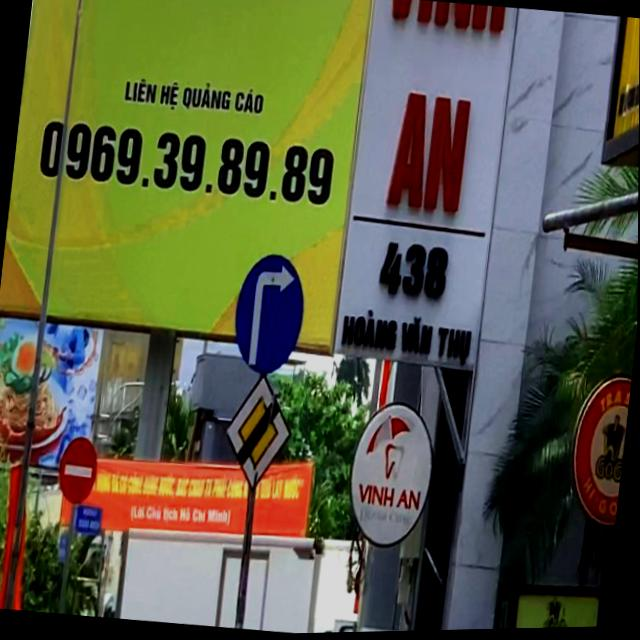Cac xe chi duoc re phai: (229, 250, 310, 378)
Cam di nguoc chieu: (56, 435, 101, 507)
